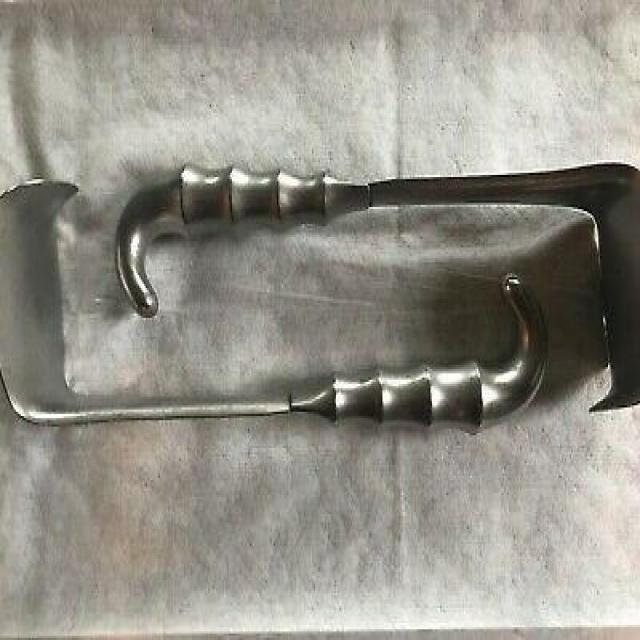Richardson: (0, 177, 554, 433), (112, 158, 640, 418)
